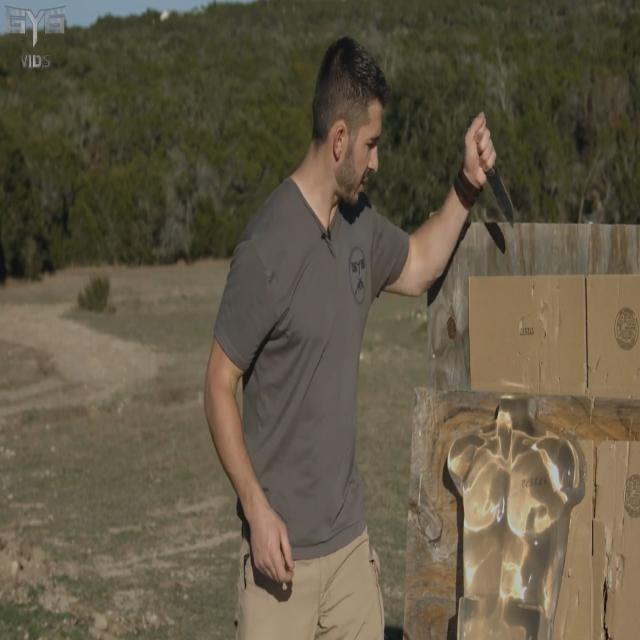knife: (484, 163, 520, 236)
